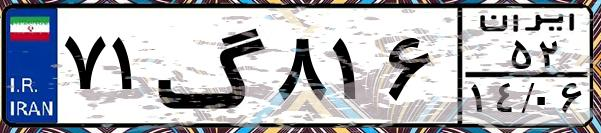0: (535, 70, 560, 125)
1: (330, 28, 385, 110), (110, 28, 156, 98), (470, 70, 495, 125)
2: (537, 27, 568, 80)
4: (495, 70, 520, 125)
5: (508, 27, 537, 80)
6: (385, 28, 445, 110), (560, 70, 590, 125)
7: (57, 26, 110, 100)
8: (270, 28, 330, 110)
گ: (156, 12, 270, 120)
